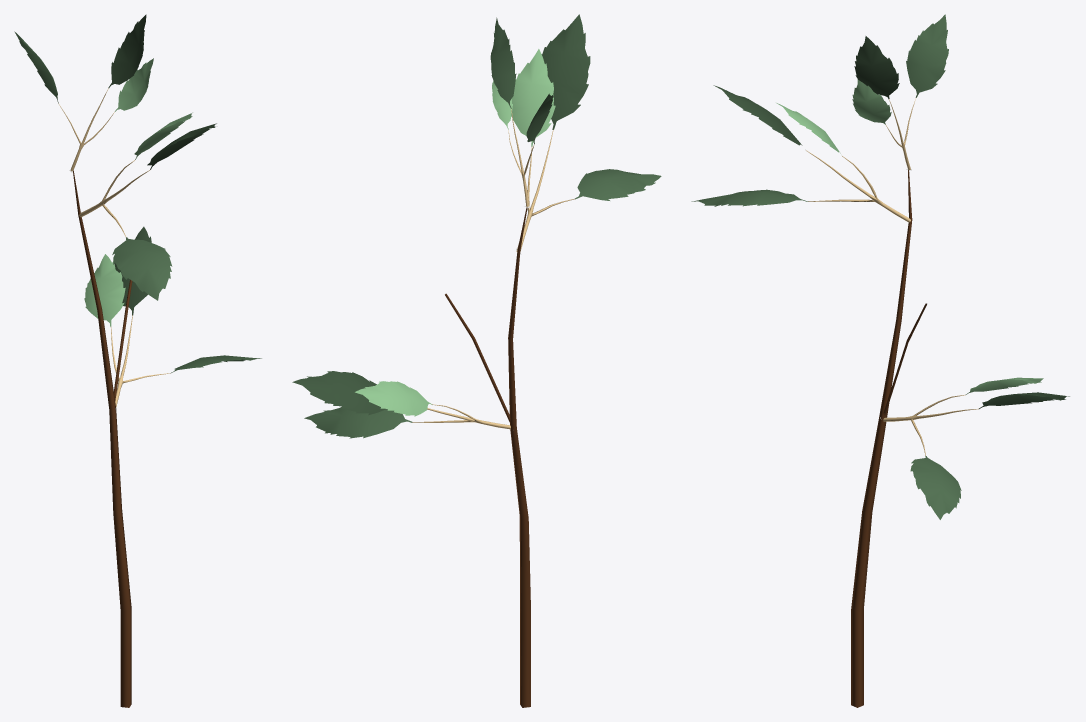
Rendered from Tree3.fbx.
The picture shows the model from 3 angles, left to right: view 1: azimuth 30°, elevation 25°; view 2: azimuth 150°, elevation 25°; view 3: azimuth 270°, elevation 25°; orthographic projection.
Parts seen in each view (by area): view 1: Árbol.002, Hojas|tree|Dupli|, Hojas|tree|Dupli|1, Hojas|tree|Dupli|2; view 2: Hojas|tree|Dupli|, Hojas|tree|Dupli|2, Árbol.002, Hojas|tree|Dupli|1; view 3: Hojas|tree|Dupli|1, Árbol.002, Hojas|tree|Dupli|2, Hojas|tree|Dupli|.
Part boxes in pixels (left/top/right/bottom): Árbol.002: left=73, top=170, right=132, bottom=707; Hojas|tree|Dupli|: left=79, top=112, right=216, bottom=300; Hojas|tree|Dupli|1: left=14, top=14, right=153, bottom=171; Hojas|tree|Dupli|2: left=84, top=226, right=261, bottom=407; Hojas|tree|Dupli|: left=511, top=14, right=661, bottom=251; Hojas|tree|Dupli|2: left=292, top=371, right=510, bottom=438; Árbol.002: left=445, top=207, right=530, bottom=707; Hojas|tree|Dupli|1: left=490, top=17, right=553, bottom=206; Hojas|tree|Dupli|1: left=852, top=14, right=948, bottom=170; Árbol.002: left=851, top=170, right=926, bottom=707; Hojas|tree|Dupli|2: left=883, top=377, right=1069, bottom=519; Hojas|tree|Dupli|: left=691, top=85, right=910, bottom=222.
Size of the model in its own units: 89.73 by 237 by 120.
